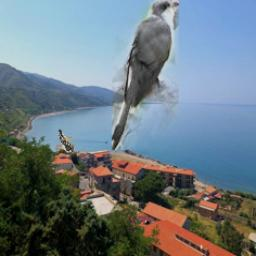Cuckoo: (112, 0, 179, 151)
Woodpecker: (57, 127, 75, 153)
